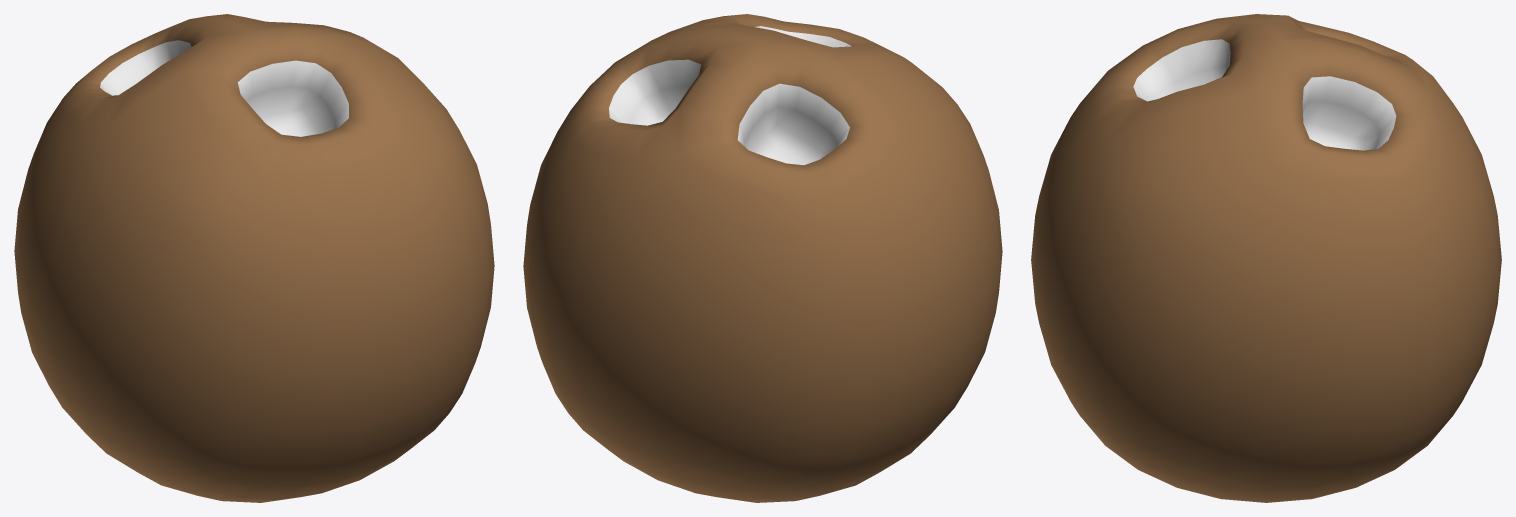
The model's file is Coconut2.fbx.
3 views of the same model, side by side, from view 1: azimuth 30°, elevation 25°; view 2: azimuth 150°, elevation 25°; view 3: azimuth 270°, elevation 25° (orthographic).
Parts seen in each view (by area): view 1: Cube; view 2: Cube; view 3: Cube.
Part boxes in pixels (x1,y1,x2,y2): Cube: (14,14,494,502); Cube: (523,14,1002,502); Cube: (1031,14,1501,502).
Size of the model in its own units: 160 by 166 by 160.
